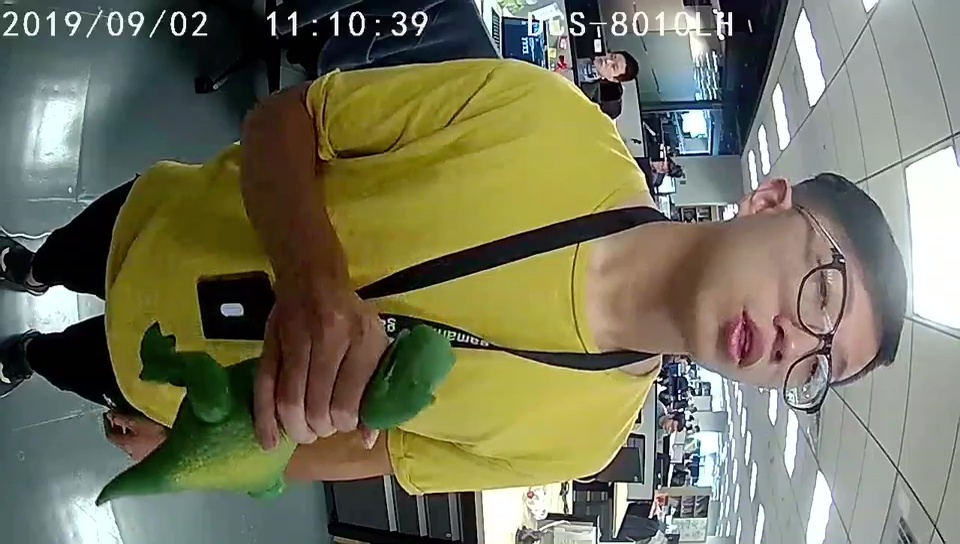rex: (153, 324, 455, 503)
